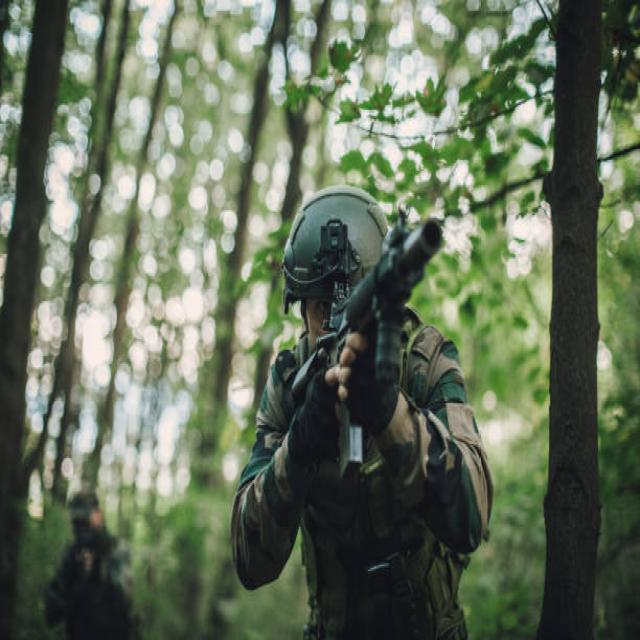soldier: (32, 487, 153, 640)
